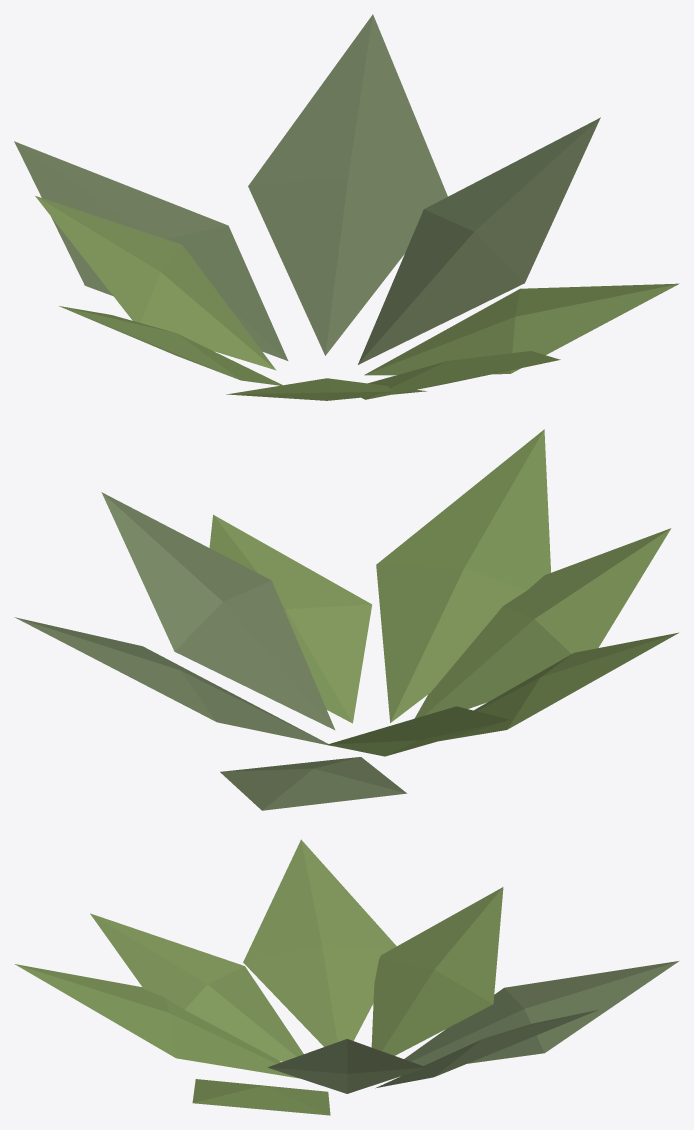
File: Plant_Common_BroadleafGroundcover_001.glb
The picture shows the model from 3 angles, top to bottom: view 1: azimuth 30°, elevation 25°; view 2: azimuth 150°, elevation 25°; view 3: azimuth 270°, elevation 25°; orthographic projection. The views are drawn at different scales.
Parts seen in each view (by area): view 1: Plant_Common_BroadleafGroundcover_001; view 2: Plant_Common_BroadleafGroundcover_001; view 3: Plant_Common_BroadleafGroundcover_001.
Boxes of the visible parts, <box> form: Plant_Common_BroadleafGroundcover_001: <box>14,14,679,400</box>; Plant_Common_BroadleafGroundcover_001: <box>14,429,678,810</box>; Plant_Common_BroadleafGroundcover_001: <box>14,839,678,1115</box>.
Size of the model in its own units: 1.5 by 0.4818 by 1.91.
